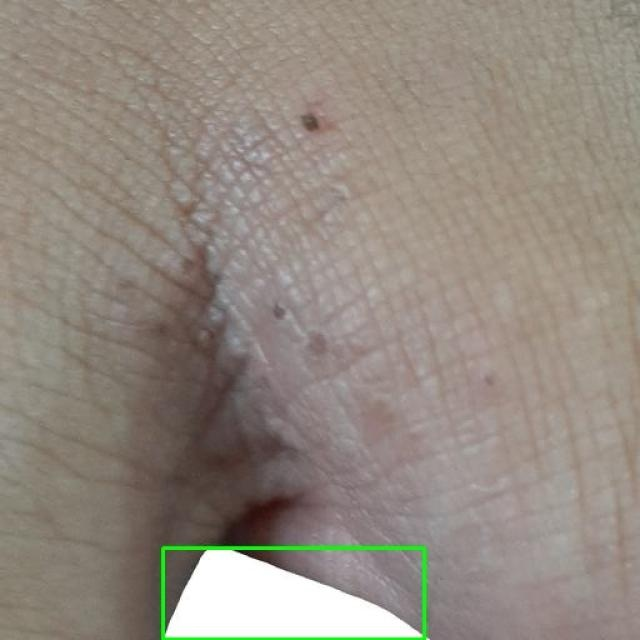Scabies: (164, 548, 425, 639)
